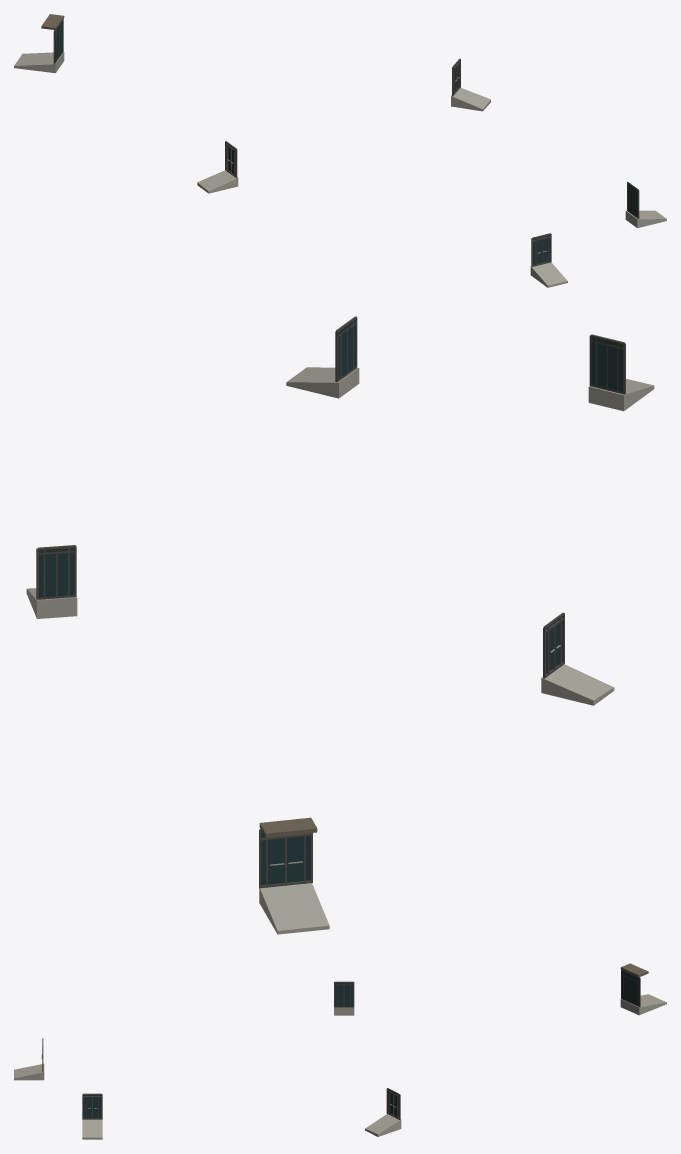
Rendered from callier_center_richardson_access.glb.
3 views of the same model, one above another, from view 1: azimuth 30°, elevation 25°; view 2: azimuth 150°, elevation 25°; view 3: azimuth 270°, elevation 25° (orthographic). The views are drawn at different scales.
Visible parts, largest first — view 1: callier_center_richardson_access_CampusAtlas_facade, callier_center_richardson_access_CampusAtlas_glass; view 2: callier_center_richardson_access_CampusAtlas_facade, callier_center_richardson_access_CampusAtlas_glass; view 3: callier_center_richardson_access_CampusAtlas_facade, callier_center_richardson_access_CampusAtlas_glass.
Part boxes in pixels (<box>): callier_center_richardson_access_CampusAtlas_facade: <box>14,14,666,287</box>; callier_center_richardson_access_CampusAtlas_glass: <box>55,20,637,264</box>; callier_center_richardson_access_CampusAtlas_facade: <box>26,316,654,934</box>; callier_center_richardson_access_CampusAtlas_glass: <box>39,319,622,885</box>; callier_center_richardson_access_CampusAtlas_facade: <box>14,963,666,1139</box>; callier_center_richardson_access_CampusAtlas_glass: <box>83,971,639,1118</box>.
Size of the model in its own units: 29.18 by 3.91 by 56.04.
Materials: 2 (2 with a texture image).
